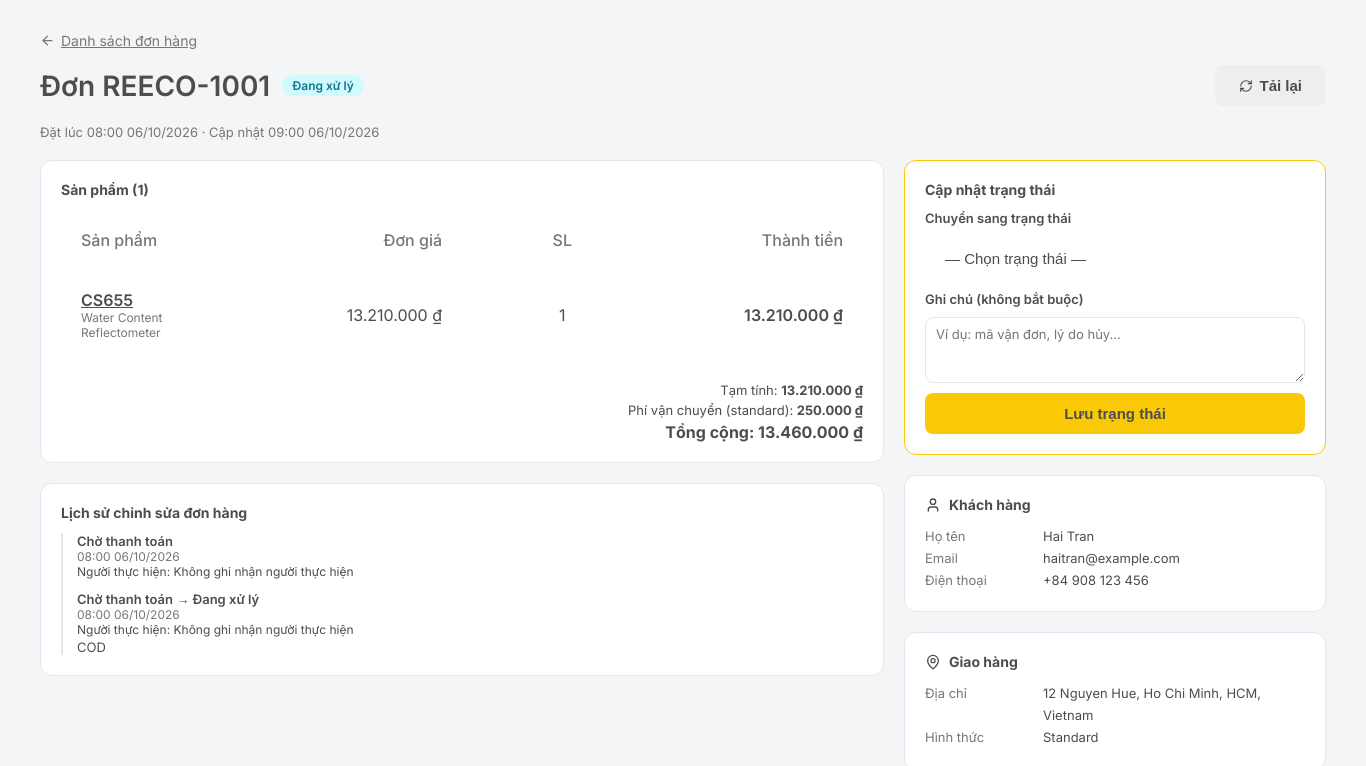
Test: OrderDetailView › a 409 from the API shows the allowed statuses
This screenshot has width=1366, height=766.
Select "Đã chuyển hãng" in the dropdown labelled "Chuyển sang trạng thái" at (1115, 258), box [925,236,1305,281]
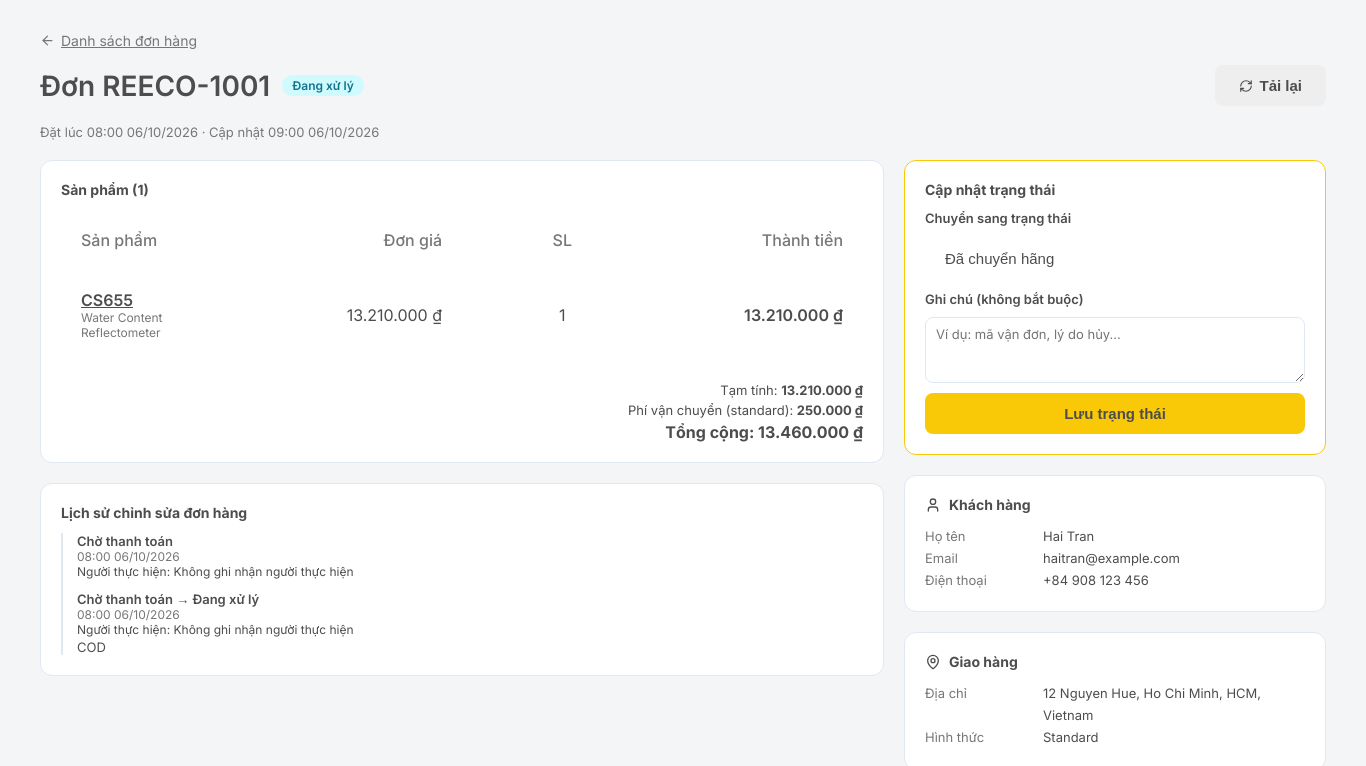
Click the button "Lưu trạng thái" at (1115, 414), box [925,393,1305,434]
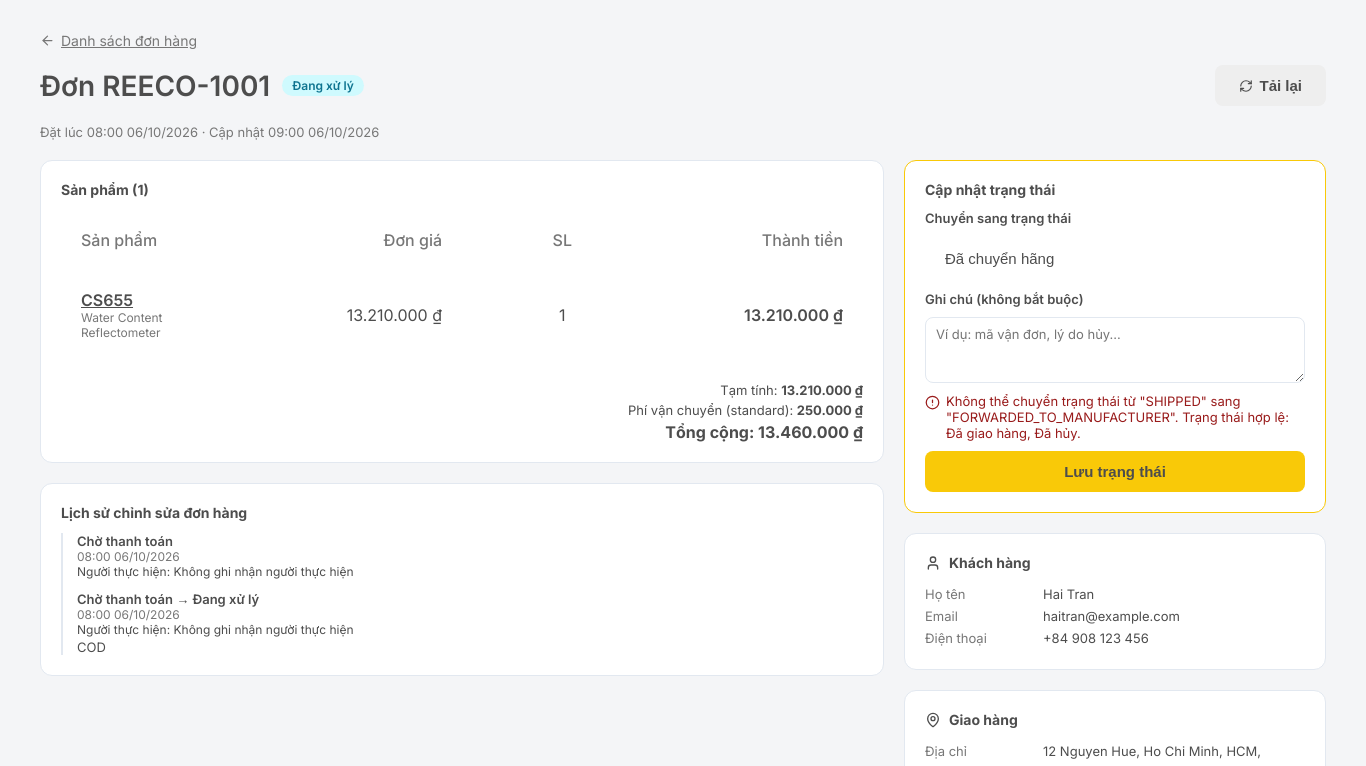
Expected: the message shows "Trạng thái hợp lệ: Đã giao hàng, Đã hủy.", [946,393,1289,441]
